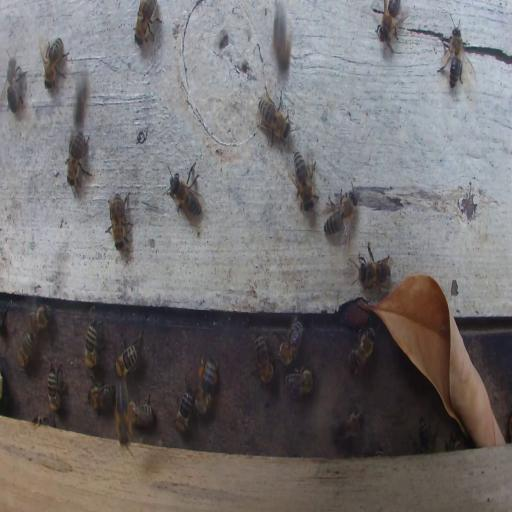bee: (436, 14, 474, 88), (164, 164, 204, 223), (256, 87, 291, 145), (323, 188, 358, 240), (372, 0, 408, 49), (65, 130, 92, 194), (354, 244, 393, 288), (112, 373, 134, 451), (289, 150, 317, 211), (106, 190, 133, 250), (40, 35, 69, 90), (346, 325, 376, 375), (329, 406, 365, 445), (276, 318, 304, 368), (114, 330, 141, 380), (273, 5, 292, 75), (4, 52, 26, 110), (133, 0, 160, 47), (252, 332, 274, 386), (197, 355, 217, 413), (23, 306, 52, 344), (18, 314, 38, 368), (174, 380, 194, 433), (410, 416, 437, 454), (284, 366, 315, 399), (126, 396, 155, 428), (47, 361, 64, 414), (84, 318, 100, 370), (88, 382, 115, 412), (33, 413, 54, 425)
